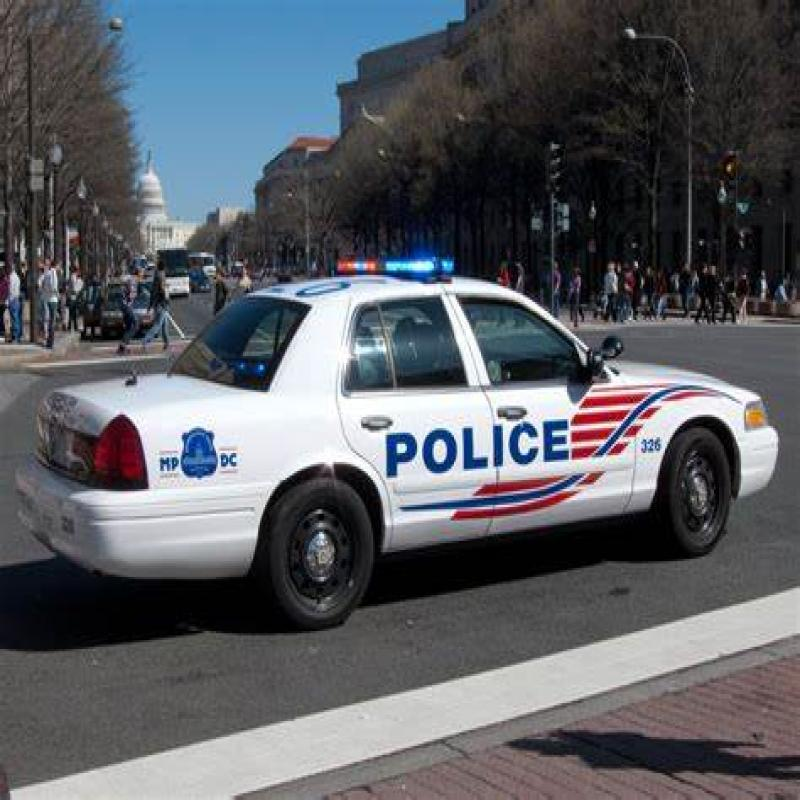AmbulanceSiren: (322, 239, 470, 306)
